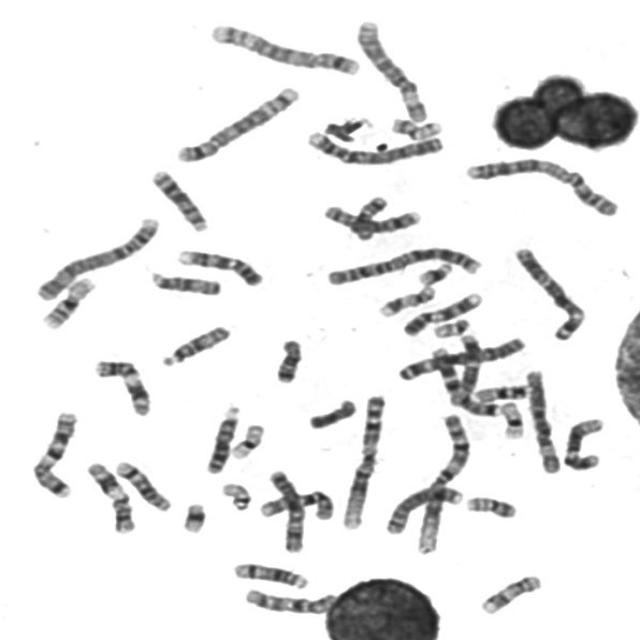A1: (411, 408, 474, 557), (336, 390, 389, 532)
A2: (460, 152, 622, 218), (320, 242, 483, 287)
A3: (509, 242, 590, 342), (393, 332, 528, 382)
B4: (29, 212, 161, 303), (300, 125, 446, 167)
B5: (170, 81, 302, 164), (204, 19, 363, 78)
C10: (238, 584, 338, 616), (254, 485, 336, 522)
C11: (80, 457, 138, 535), (88, 355, 153, 417)
C12: (445, 330, 484, 408), (558, 413, 607, 471)
C6: (351, 16, 431, 124), (520, 364, 564, 476)
C7: (427, 343, 502, 418), (27, 407, 80, 500)
C8: (380, 482, 466, 536), (318, 200, 423, 235)
C9: (398, 288, 486, 337), (173, 245, 265, 288)
D13: (146, 164, 211, 233), (200, 400, 242, 476)
D14: (109, 457, 173, 513), (228, 558, 310, 590)
D15: (156, 321, 233, 369), (145, 267, 223, 297)
E16: (36, 272, 96, 331), (470, 380, 530, 403)
E17: (474, 570, 544, 616), (374, 281, 438, 318)
E18: (347, 192, 390, 241), (270, 335, 304, 385)
F19: (226, 420, 266, 461), (495, 397, 527, 440)
F20: (384, 113, 444, 141), (461, 491, 518, 520)
G21: (412, 257, 456, 286), (176, 498, 208, 535)
G22: (216, 478, 253, 512), (428, 314, 472, 339)
X: (263, 465, 307, 554)
